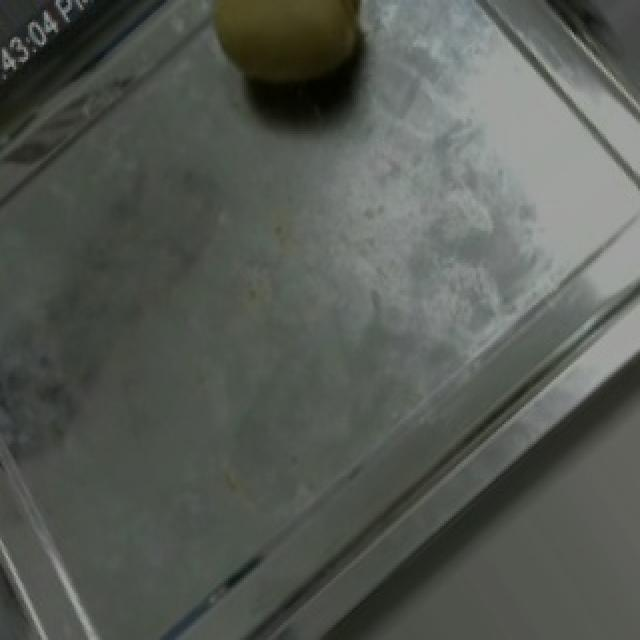Fruit: (176, 0, 404, 151)
